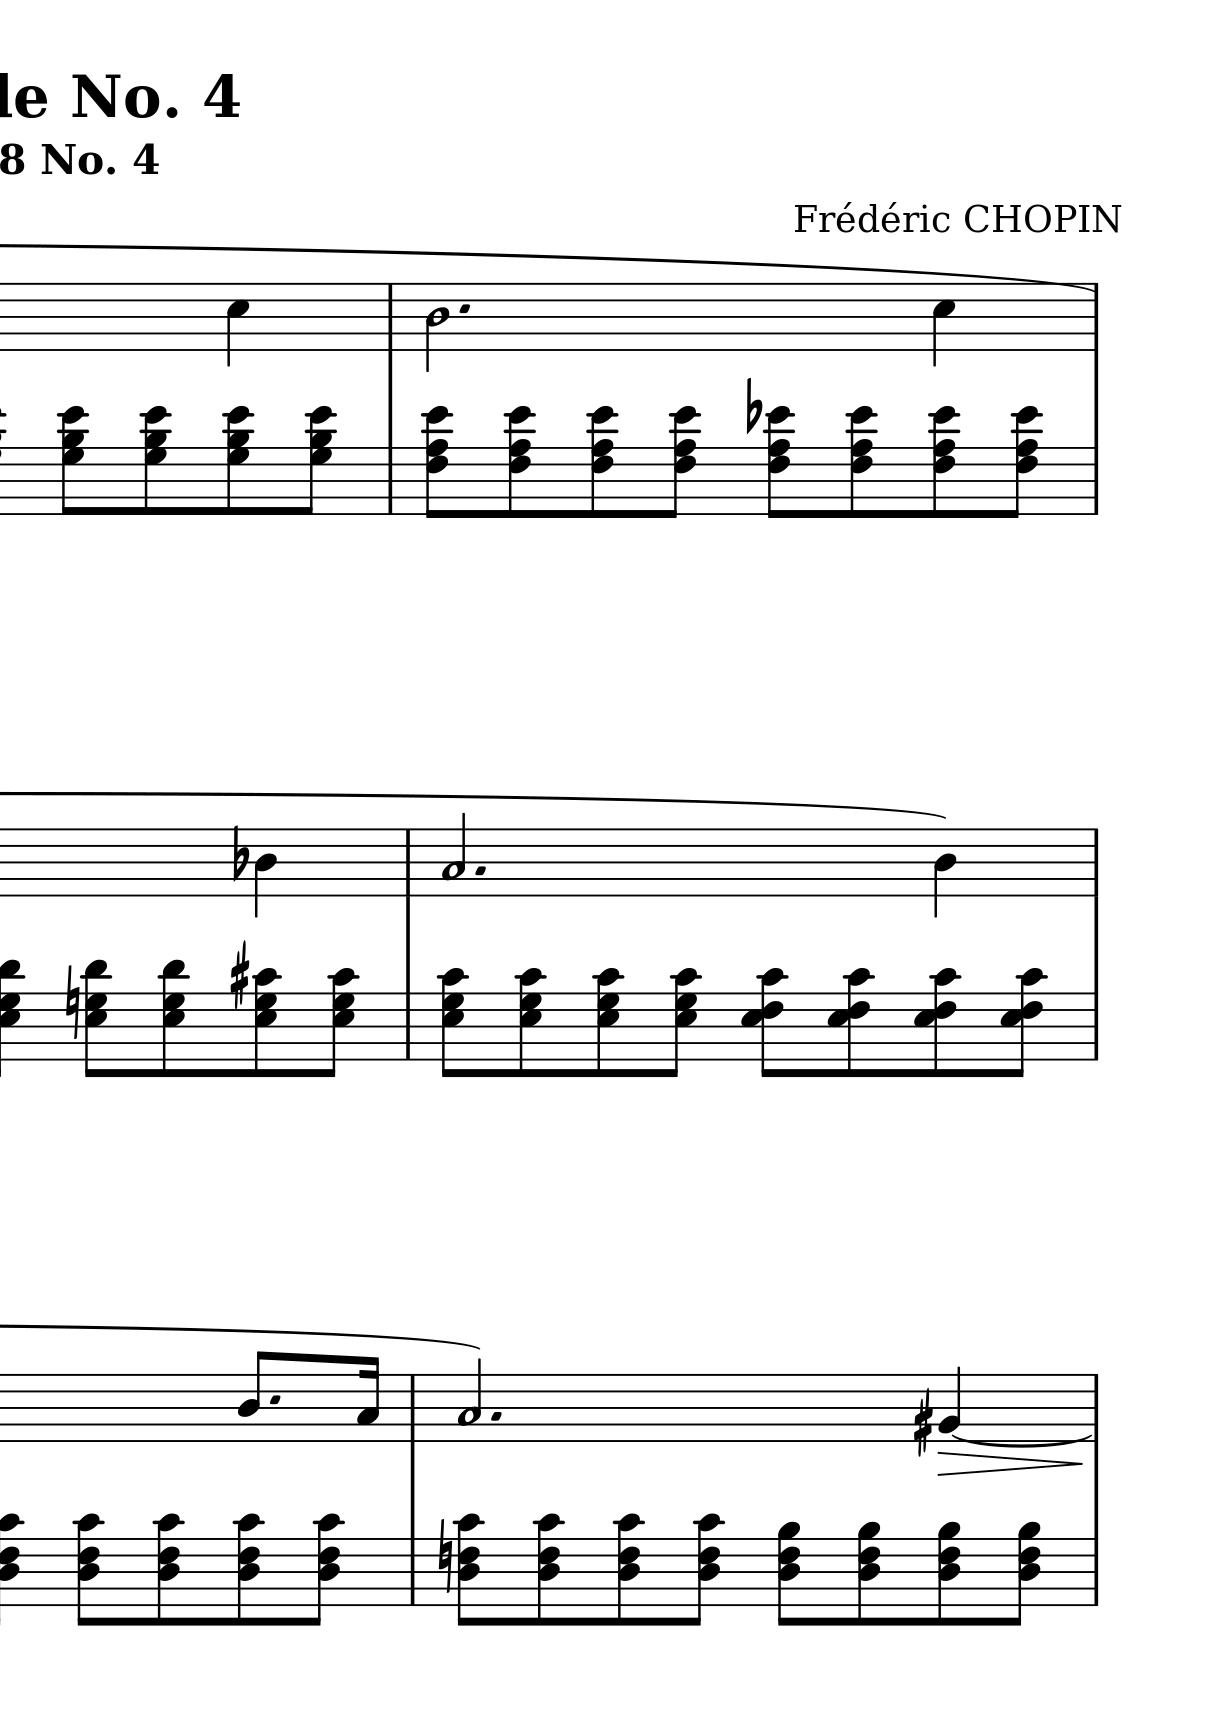16_3: (354, 1354, 381, 1444)
2_3: (438, 811, 467, 899), (456, 1358, 483, 1446)
2_4: (423, 281, 452, 374)
4_2: (937, 1364, 964, 1447)
4_4: (931, 826, 958, 919), (252, 826, 278, 919)
4_5: (929, 281, 958, 368), (224, 280, 252, 369)
8_4: (235, 1348, 270, 1444)
8_th: (827, 964, 876, 1081), (914, 964, 962, 1081), (996, 966, 1045, 1079), (742, 965, 789, 1081), (305, 1510, 347, 1629), (685, 1510, 725, 1629), (662, 404, 702, 520), (1004, 404, 1045, 520), (662, 964, 702, 1078), (319, 965, 358, 1079), (610, 1512, 649, 1629), (299, 406, 339, 517), (419, 404, 457, 519), (501, 404, 538, 520), (761, 404, 798, 520), (156, 957, 190, 1081), (81, 957, 116, 1079), (72, 1511, 108, 1628), (530, 1512, 566, 1629), (585, 404, 621, 520), (927, 404, 962, 520), (844, 404, 880, 520), (436, 965, 471, 1081), (1006, 1518, 1042, 1628), (138, 403, 173, 517), (591, 965, 626, 1079), (152, 1511, 186, 1629), (232, 1511, 266, 1629), (221, 404, 256, 516), (56, 402, 91, 517), (454, 1512, 488, 1628), (513, 965, 547, 1078), (249, 966, 284, 1079), (775, 1518, 805, 1628), (855, 1519, 883, 1628), (935, 1520, 962, 1628), (1, 1510, 28, 1608)
Diminuendo_hairpin: (936, 1451, 1083, 1478)
Flat: (740, 374, 765, 439), (230, 823, 251, 882)
Natural: (62, 962, 81, 1042), (435, 1516, 454, 1595)
Sharp: (227, 939, 251, 1010), (911, 1386, 932, 1457)
Single_barline: (396, 830, 417, 895), (381, 446, 400, 515), (1084, 446, 1104, 513), (1084, 1539, 1104, 1606), (1086, 828, 1104, 895), (399, 993, 417, 1060), (1084, 993, 1103, 1060), (403, 1375, 421, 1442), (1086, 1375, 1104, 1442), (381, 285, 399, 351), (404, 1537, 421, 1606), (1087, 284, 1104, 351)
dot: (456, 301, 473, 316), (471, 864, 488, 878), (266, 1393, 281, 1407), (488, 1409, 503, 1423)
